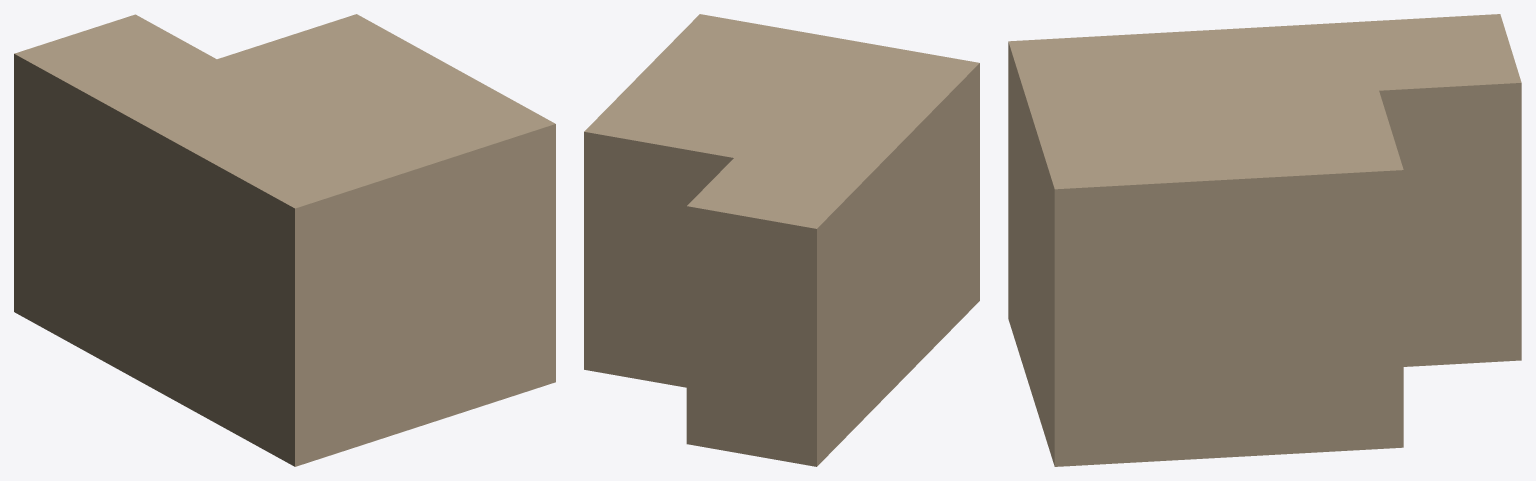
Rendered from bld_107639232.dae.
3 views of the same model, side by side, from view 1: azimuth 30°, elevation 25°; view 2: azimuth 150°, elevation 25°; view 3: azimuth 270°, elevation 25° (orthographic). The views are drawn at different scales.
Parts seen in each view (by area): view 1: bld_107639232; view 2: bld_107639232; view 3: bld_107639232.
Part boxes in pixels (bbox=[...]): bld_107639232: bbox=[14, 14, 555, 466]; bld_107639232: bbox=[584, 14, 979, 466]; bld_107639232: bbox=[1008, 14, 1521, 466].
Size of the model in its own units: 10.83 by 13.4 by 8.
